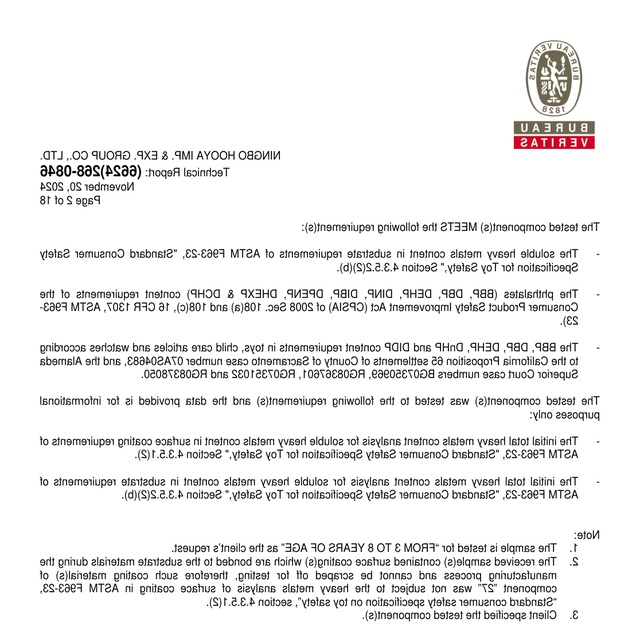bureau_veritas: (510, 39, 599, 152)
